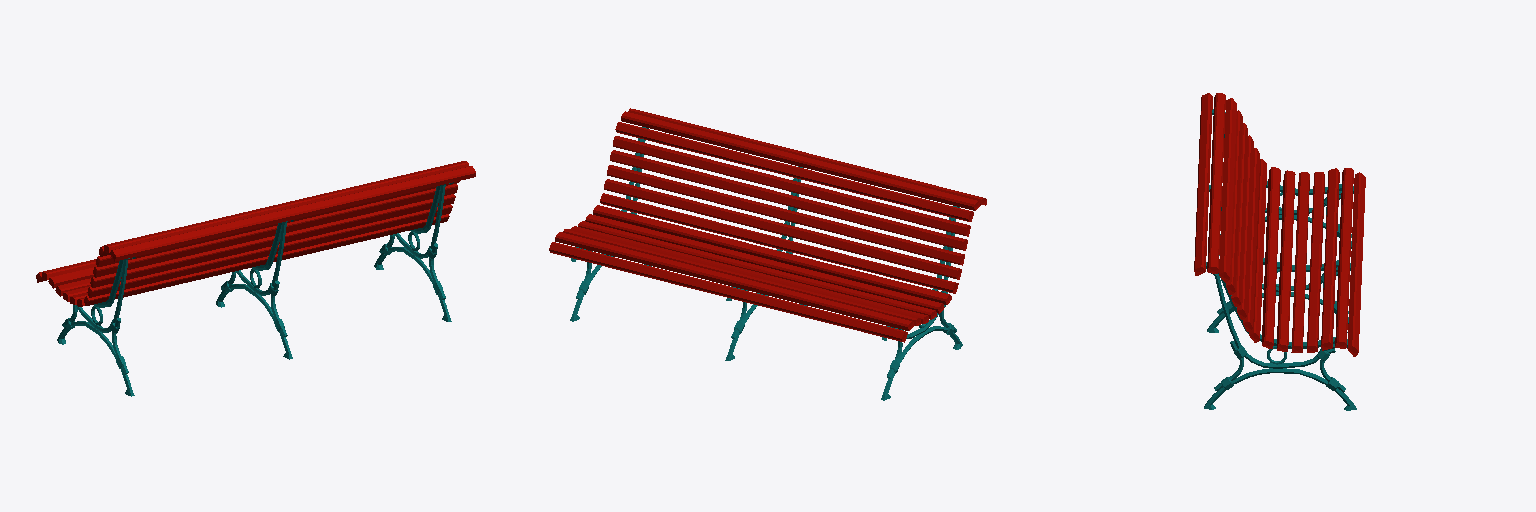
The model's file is bench.obj.
3 views of the same model, side by side, from view 1: azimuth 30°, elevation 25°; view 2: azimuth 150°, elevation 25°; view 3: azimuth 270°, elevation 25° (orthographic).
Parts seen in each view (by area): view 1: mobUrbano1:polySurface2 mobUrbano1:banco6 pasted__group group1 g, mobUrbano1:banco6 pasted__group group1 group4 mobUrbano1:polySur; view 2: mobUrbano1:polySurface2 mobUrbano1:banco6 pasted__group group1 g, mobUrbano1:banco6 pasted__group group1 group4 mobUrbano1:polySur; view 3: mobUrbano1:polySurface2 mobUrbano1:banco6 pasted__group group1 g, mobUrbano1:banco6 pasted__group group1 group4 mobUrbano1:polySur.
Boxes of the visible parts, x1=… form: mobUrbano1:polySurface2 mobUrbano1:banco6 pasted__group group1 g: x1=36, y1=161, x2=475, y2=306; mobUrbano1:banco6 pasted__group group1 group4 mobUrbano1:polySur: x1=57, y1=182, x2=453, y2=396; mobUrbano1:polySurface2 mobUrbano1:banco6 pasted__group group1 g: x1=549, y1=108, x2=986, y2=342; mobUrbano1:banco6 pasted__group group1 group4 mobUrbano1:polySur: x1=570, y1=127, x2=962, y2=400; mobUrbano1:polySurface2 mobUrbano1:banco6 pasted__group group1 g: x1=1194, y1=93, x2=1365, y2=356; mobUrbano1:banco6 pasted__group group1 group4 mobUrbano1:polySur: x1=1204, y1=109, x2=1356, y2=410.
Bounding box in the file's own units: 18.11 × 7.32 × 7.49.